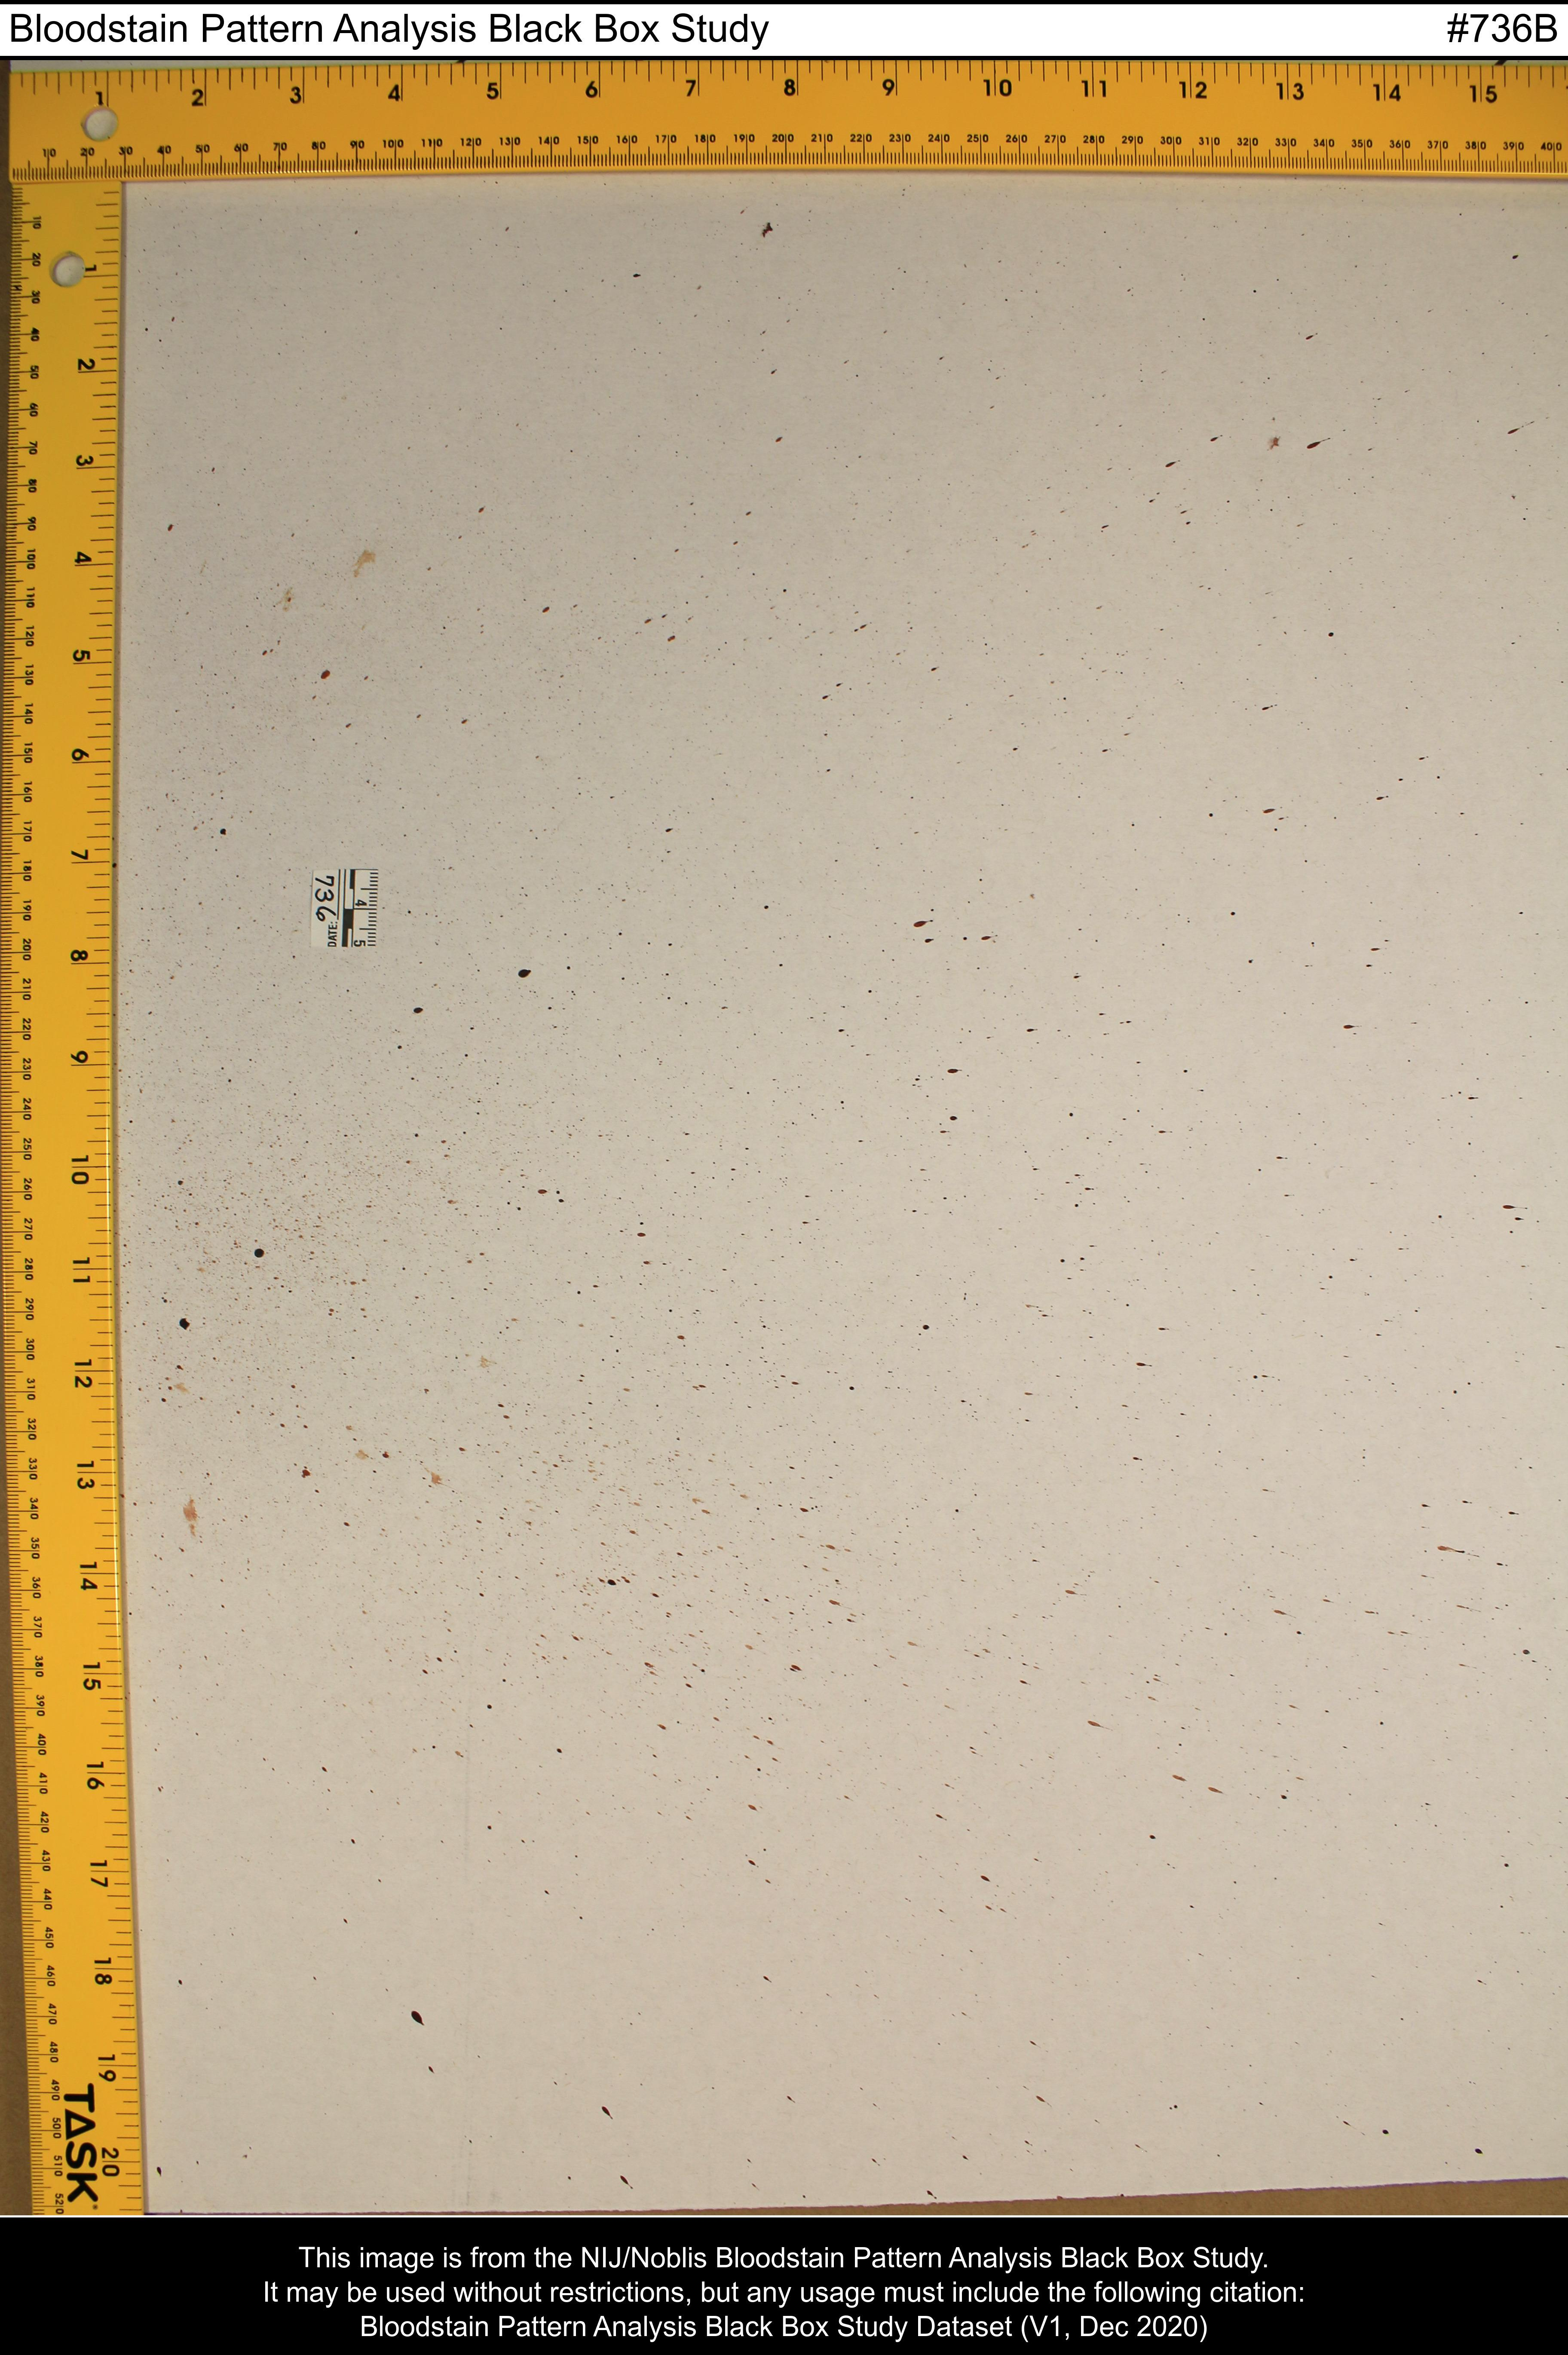Impact: (493, 1284, 766, 1750), (798, 829, 1146, 1165), (138, 1085, 406, 1468), (471, 940, 654, 1062), (404, 1982, 458, 2066)
